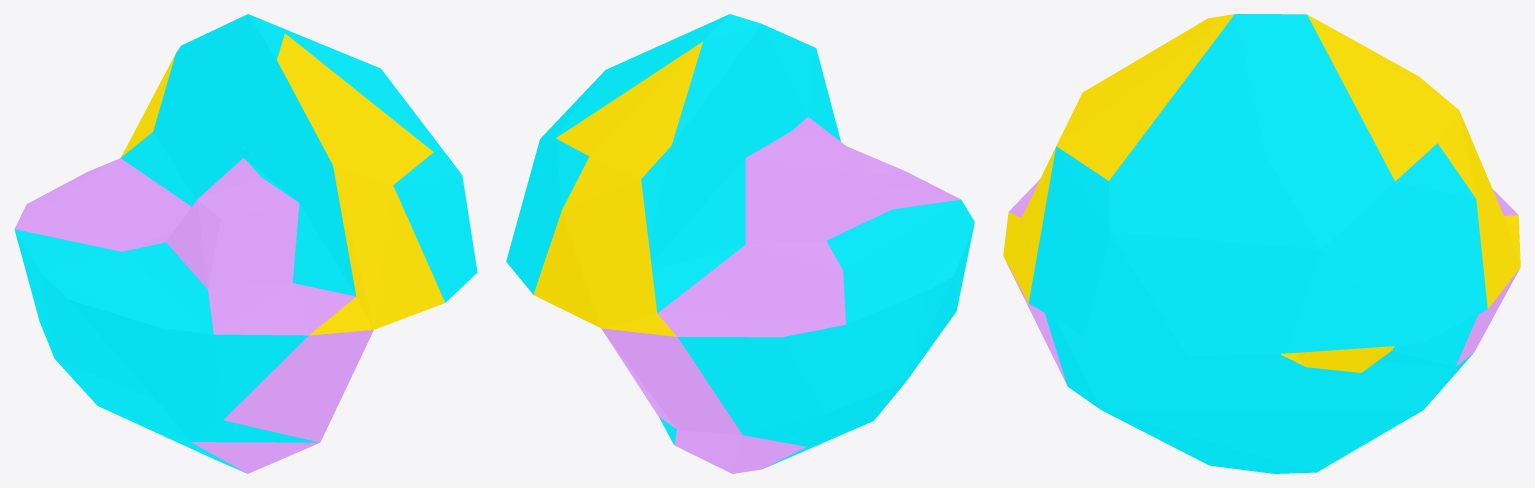
Rendered from speeder_trap.glb.
The picture shows the model from 3 angles, left to right: view 1: azimuth 30°, elevation 25°; view 2: azimuth 150°, elevation 25°; view 3: azimuth 270°, elevation 25°; orthographic projection. The views are drawn at different scales.
Parts seen in each view (by area): view 1: speeder_trap; view 2: speeder_trap; view 3: speeder_trap.
Boxes of the visible parts, x1,y1,x2,y2 form: speeder_trap: (14, 14, 477, 473); speeder_trap: (506, 14, 974, 473); speeder_trap: (1003, 14, 1520, 473).
Bounding box in the file's own units: 2.31 × 2.42 × 2.33.
